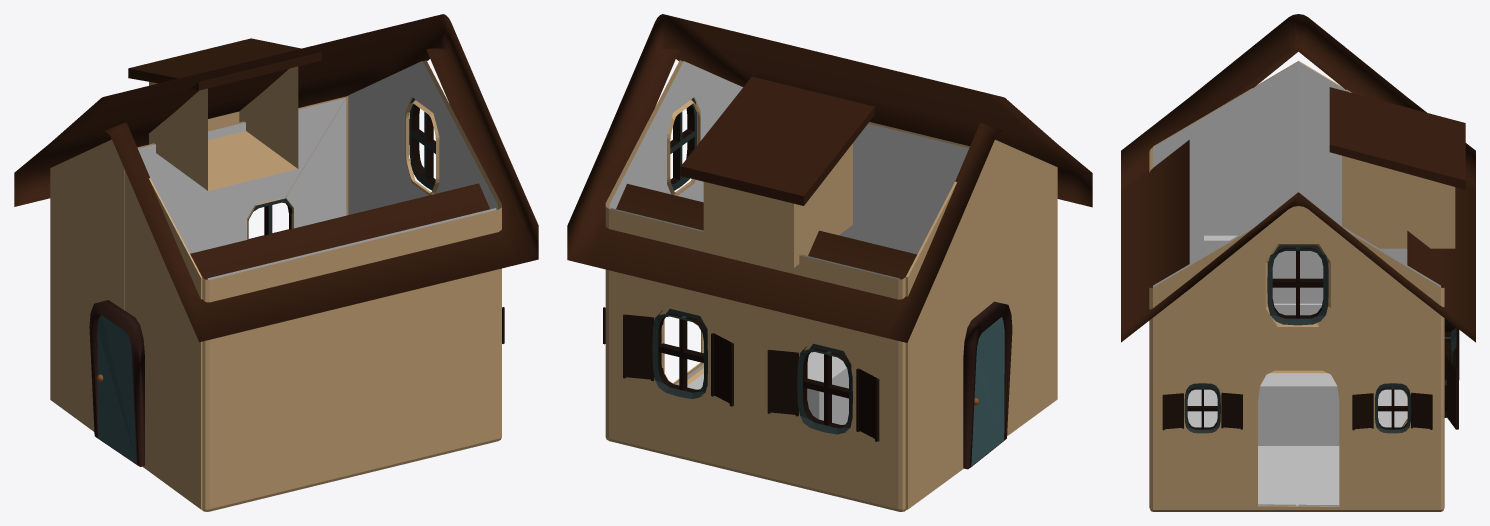
File: House.obj
The picture shows the model from 3 angles, left to right: view 1: azimuth 30°, elevation 25°; view 2: azimuth 150°, elevation 25°; view 3: azimuth 270°, elevation 25°; orthographic projection. The views are drawn at different scales.
Parts seen in each view (by area): view 1: House4, roof, wall6, Cube.016, wall3, door.001, wall5, Cube.001, doorframe.001, window.004, wall7; view 2: House4, roof, Cube.001, wall7, Cube.016, wall6, door.001, doorframe.001, window.002, window.003, panebackground.006, panebackground.004 (+4 smaller); view 3: House4, roof, wall1, Cube.001, Cube.016, floor, Cube.003, window.004, Cube, window, window.001, panebackground (+7 smaller).
Boxes of the visible parts, left/top/right/bottom form: House4: left=50, top=60, right=501, bottom=511; roof: left=14, top=14, right=538, bottom=342; wall6: left=348, top=61, right=497, bottom=214; Cube.016: left=149, top=66, right=298, bottom=190; wall3: left=138, top=98, right=345, bottom=253; door.001: left=97, top=315, right=136, bottom=463; wall5: left=286, top=98, right=346, bottom=228; Cube.001: left=128, top=38, right=321, bottom=90; doorframe.001: left=89, top=300, right=144, bottom=466; window.004: left=409, top=98, right=435, bottom=190; wall7: left=207, top=208, right=496, bottom=279; House4: left=605, top=60, right=1057, bottom=511; roof: left=567, top=14, right=1092, bottom=342; Cube.001: left=680, top=76, right=874, bottom=205; wall7: left=839, top=123, right=968, bottom=254; Cube.016: left=703, top=143, right=852, bottom=267; wall6: left=609, top=61, right=742, bottom=385; door.001: left=971, top=317, right=1004, bottom=466; doorframe.001: left=963, top=301, right=1012, bottom=469; window.002: left=652, top=308, right=707, bottom=399; window.003: left=797, top=343, right=852, bottom=434; panebackground.006: left=767, top=349, right=798, bottom=416; panebackground.004: left=623, top=314, right=654, bottom=380; House4: left=1149, top=60, right=1444, bottom=511; roof: left=1121, top=14, right=1475, bottom=342; wall1: left=1153, top=61, right=1407, bottom=315; Cube.001: left=1329, top=87, right=1465, bottom=189; Cube.016: left=1342, top=155, right=1455, bottom=248; floor: left=1187, top=389, right=1407, bottom=505; Cube.003: left=1258, top=373, right=1339, bottom=445; window.004: left=1267, top=245, right=1328, bottom=325; Cube: left=1212, top=243, right=1323, bottom=303; window: left=1184, top=383, right=1220, bottom=433; window.001: left=1375, top=383, right=1411, bottom=433; panebackground: left=1162, top=393, right=1183, bottom=430.
Size of the model in its own units: 1.23 by 1.27 by 1.16.
